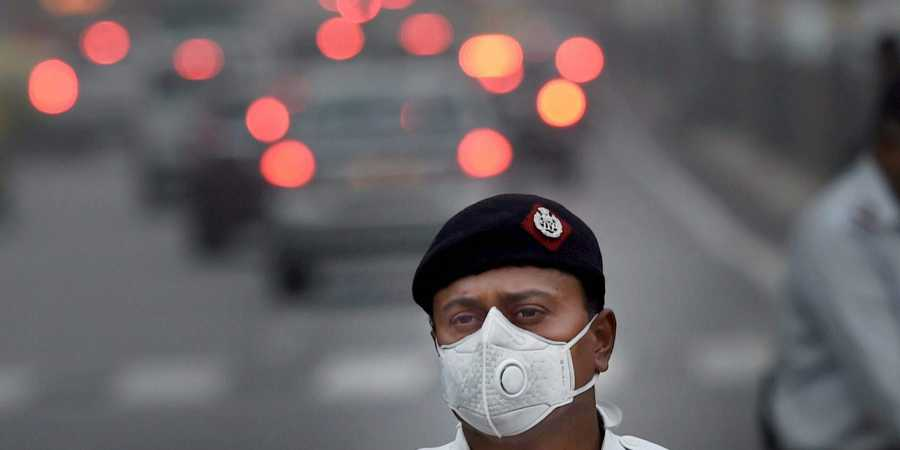n95: (425, 306, 587, 442)
